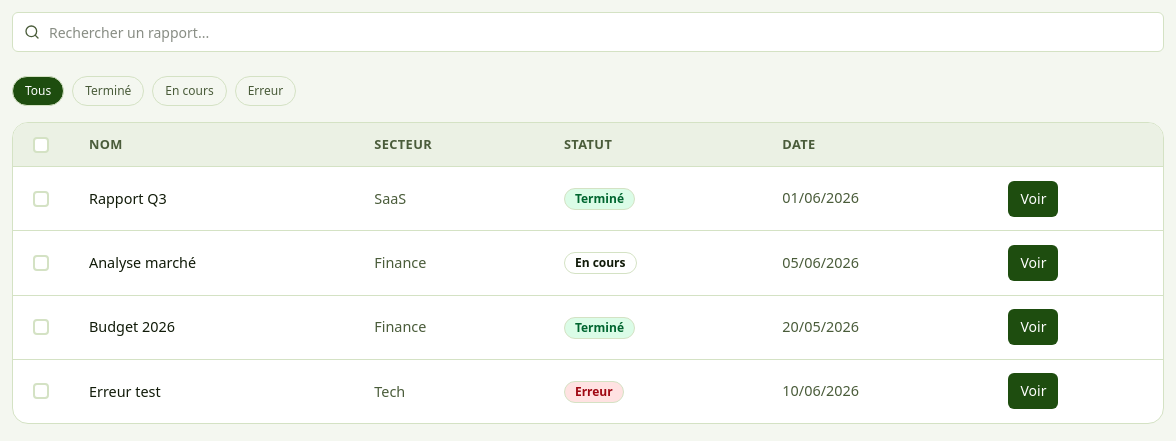
it: ReportsFilter › search input can be cleared via X button
Type "Finance" into the field with placeholder "Rechercher un rapport...". click: (588, 32)
box: [12,12,1164,52]
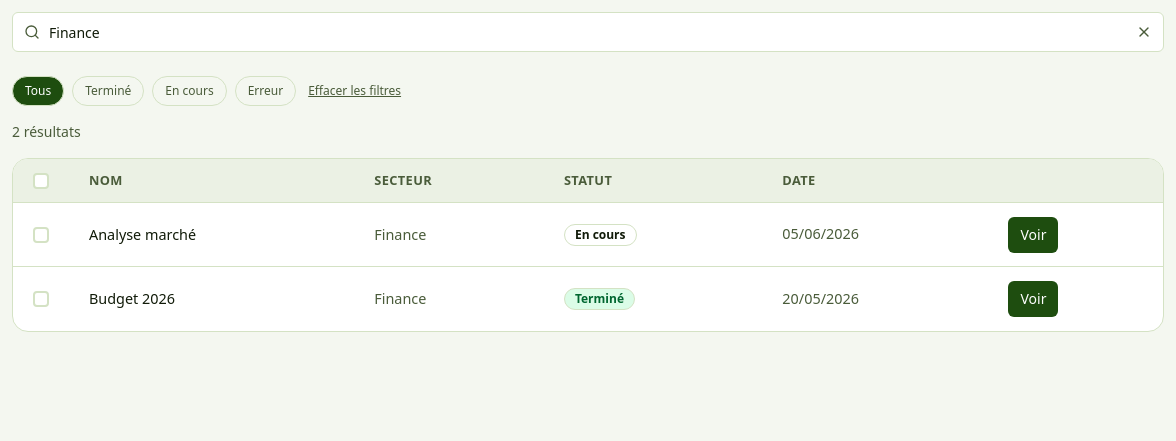
Check: the text "Analyse marché" is shown, box [69,203,354,267]
Click the button named "Effacer la recherche". click: (1144, 32)
box: [1132,20,1156,44]
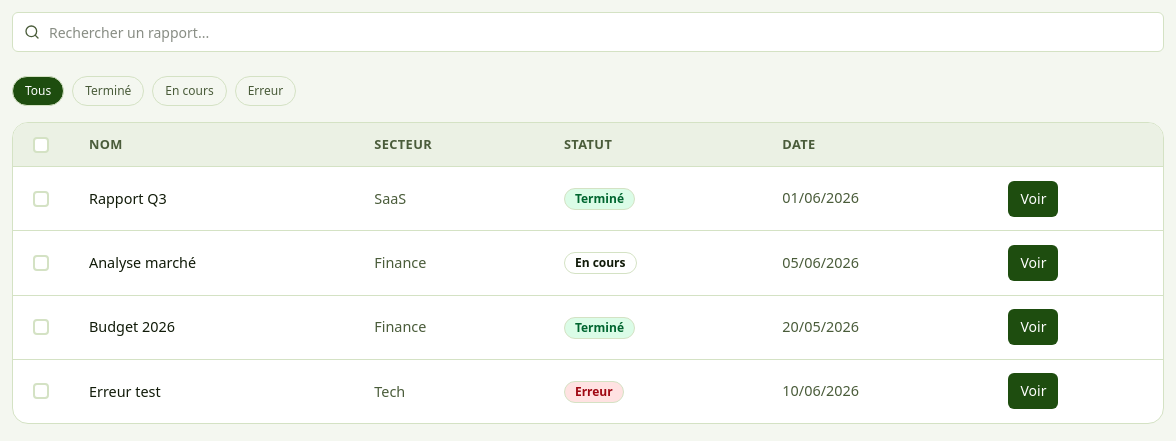
Check: the text "Analyse marché" is shown, box [69,231,354,295]
Check: the text "Rapport Q3" is shown, box [69,167,354,231]
